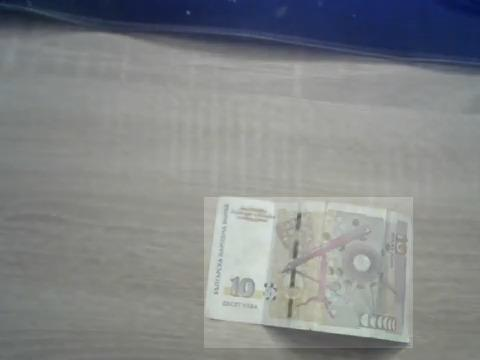10leva: (204, 197, 413, 348)
